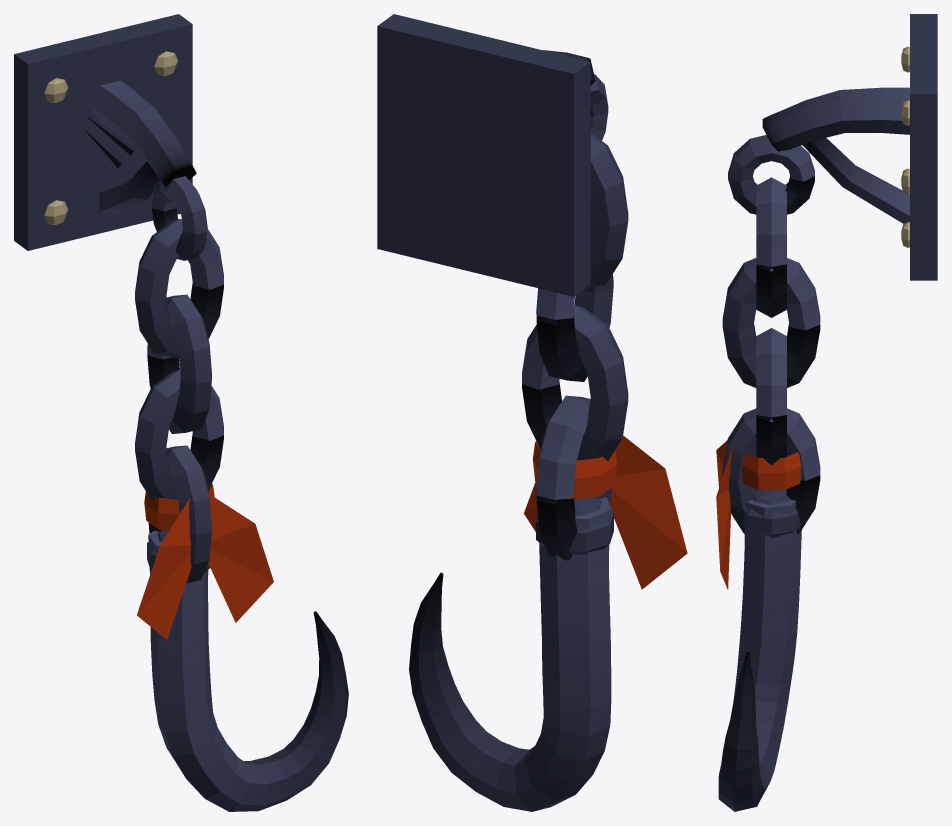
Rendered from hook_chain.glb.
3 renders of one model, left to right at view 1: azimuth 30°, elevation 25°; view 2: azimuth 150°, elevation 25°; view 3: azimuth 270°, elevation 25°, orthographic. The views are drawn at different scales.
Parts seen in each view (by area): view 1: hook_swing, hook_chain.001; view 2: hook_swing, hook_chain.001; view 3: hook_swing, hook_chain.001.
Boxes of the visible parts, <box> form: hook_swing: <box>135,219,348,811</box>; hook_chain.001: <box>14,14,207,260</box>; hook_swing: <box>409,133,687,811</box>; hook_chain.001: <box>377,14,608,296</box>; hook_swing: <box>716,177,820,811</box>; hook_chain.001: <box>728,14,937,280</box>.
Size of the model in its own units: 0.6831 by 2 by 0.56.
